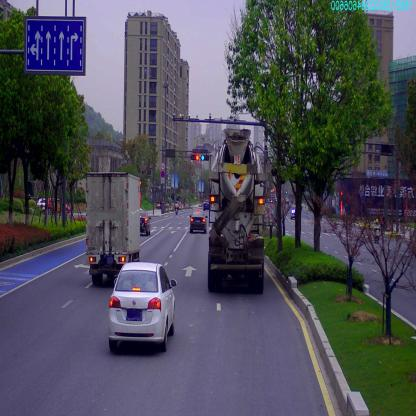traffic-light: (190, 155, 200, 159), (202, 155, 210, 159)
